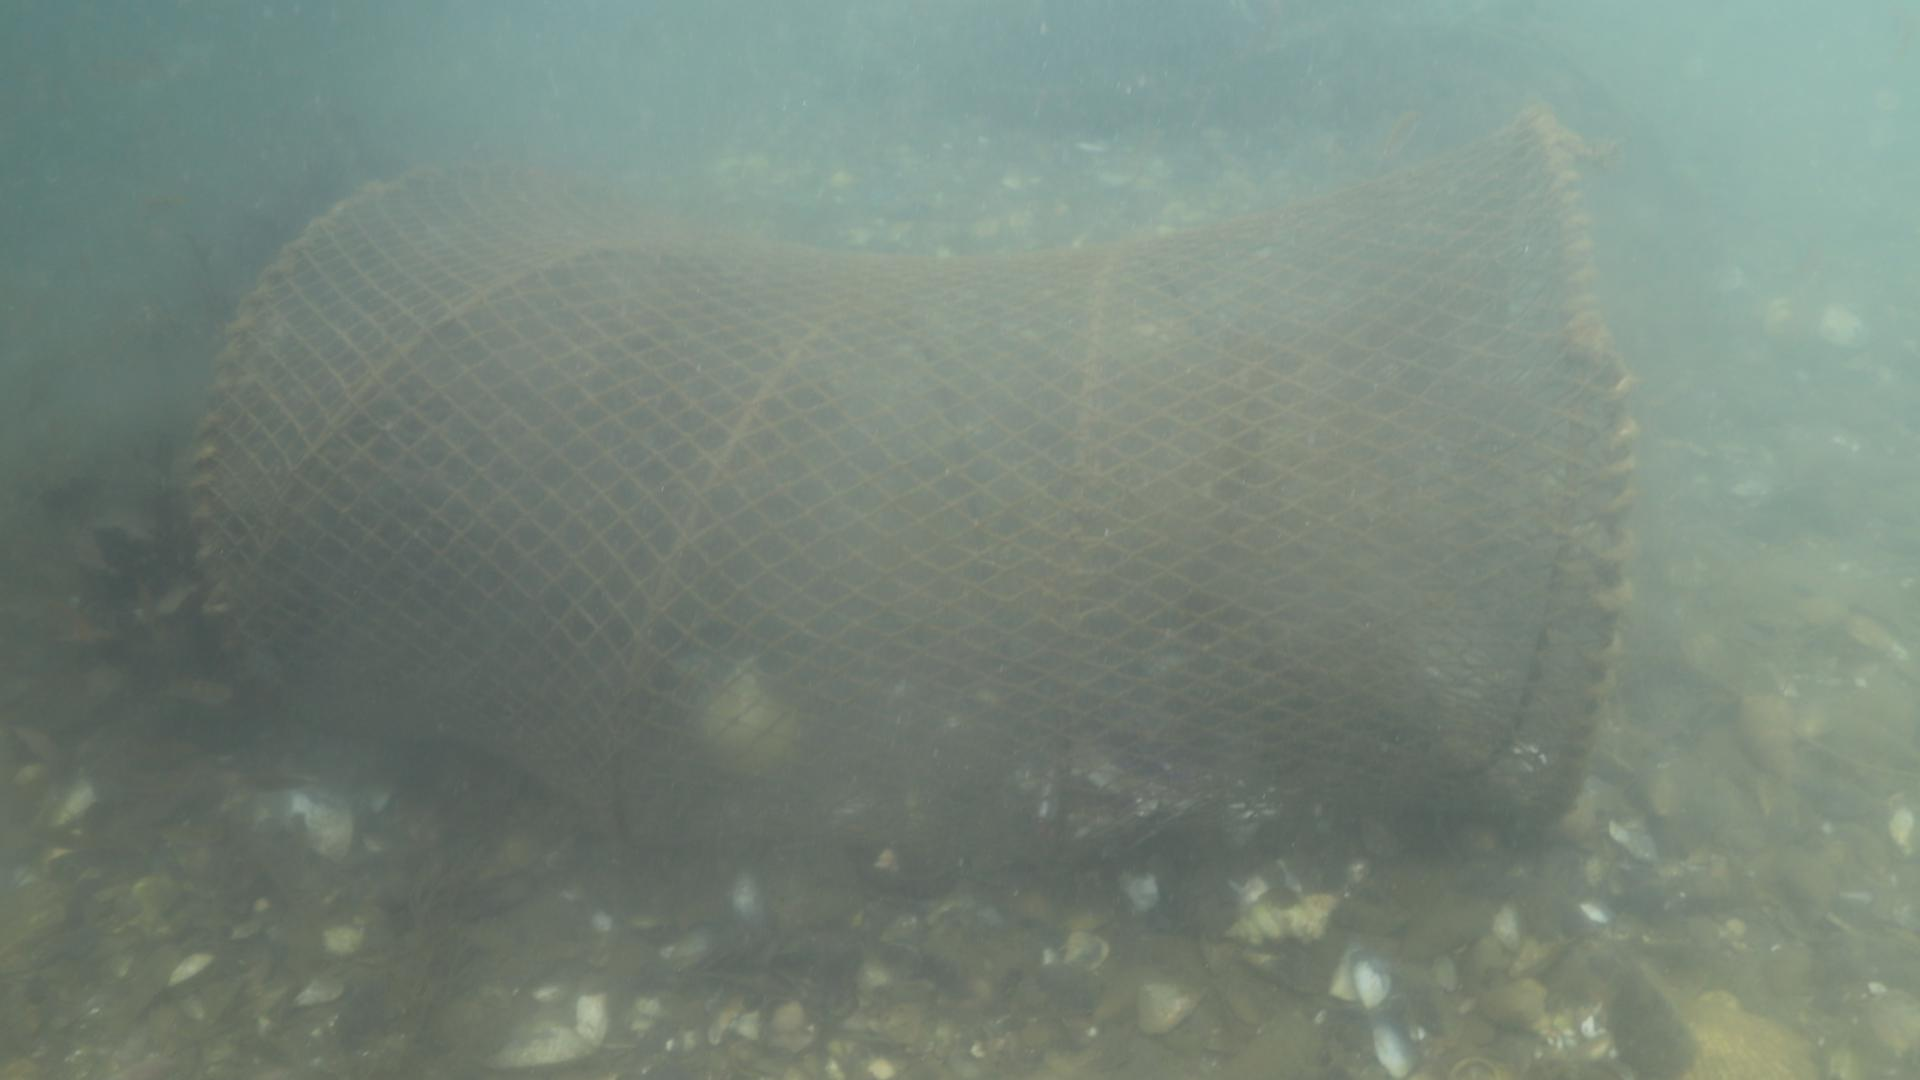spring fish trap: (186, 98, 1640, 855)
